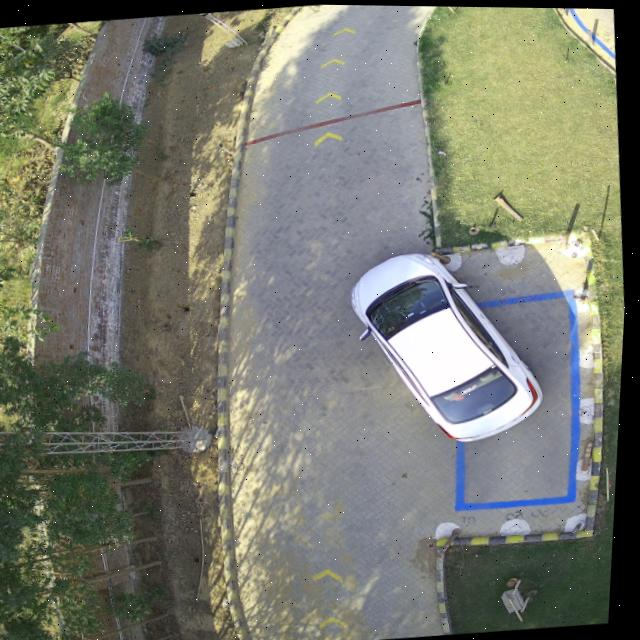car: (354, 251, 546, 439)
